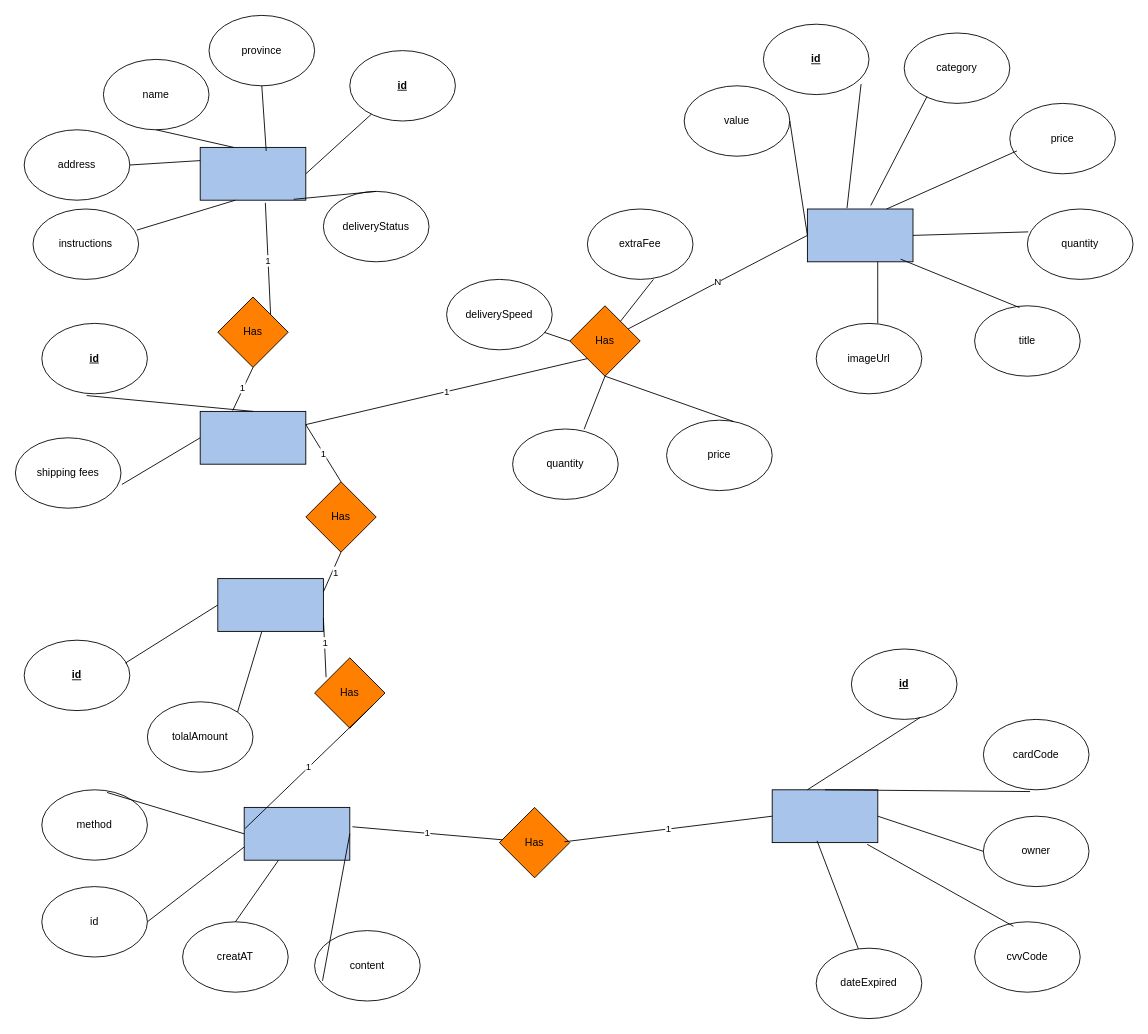
Some shapes in this 1148 by 1034 pixel diagram are drawn without their labels. Each missing label, with the centre of its shape:
Card: pixel 824 816
Delivery Info: pixel 252 173
Invoice: pixel 270 604
Media: pixel 860 235
Order: pixel 252 437
PaymentTransaction: pixel 296 833
